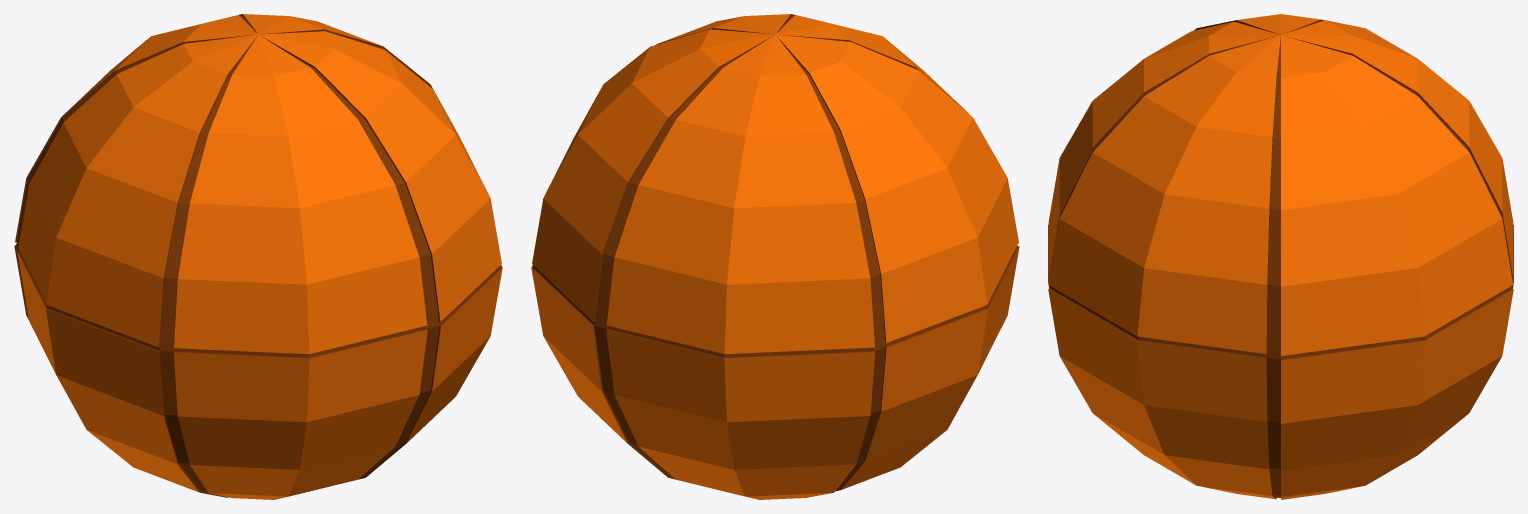
The model's file is Ball.fbx.
The picture shows the model from 3 angles, left to right: view 1: azimuth 30°, elevation 25°; view 2: azimuth 150°, elevation 25°; view 3: azimuth 270°, elevation 25°; orthographic projection.
Visible parts, largest first — view 1: pSphere1; view 2: pSphere1; view 3: pSphere1.
Boxes of the visible parts, x1,y1,x2,y2 form: pSphere1: (14, 14, 502, 499); pSphere1: (531, 14, 1019, 499); pSphere1: (1048, 14, 1513, 499).
Size of the model in its own units: 1 by 1 by 0.9511.
